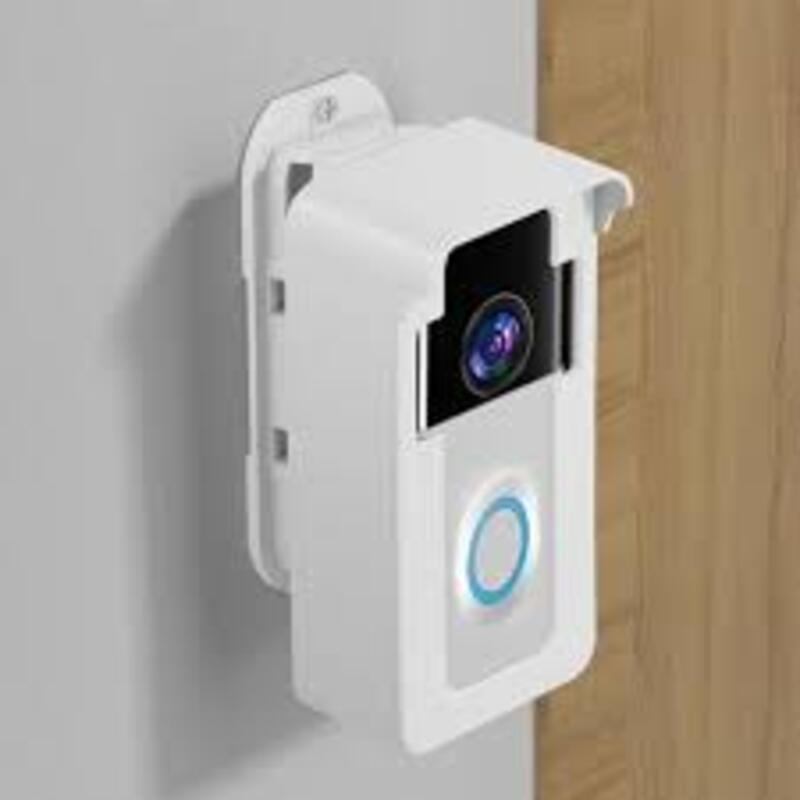doorbell: (397, 223, 570, 687)
